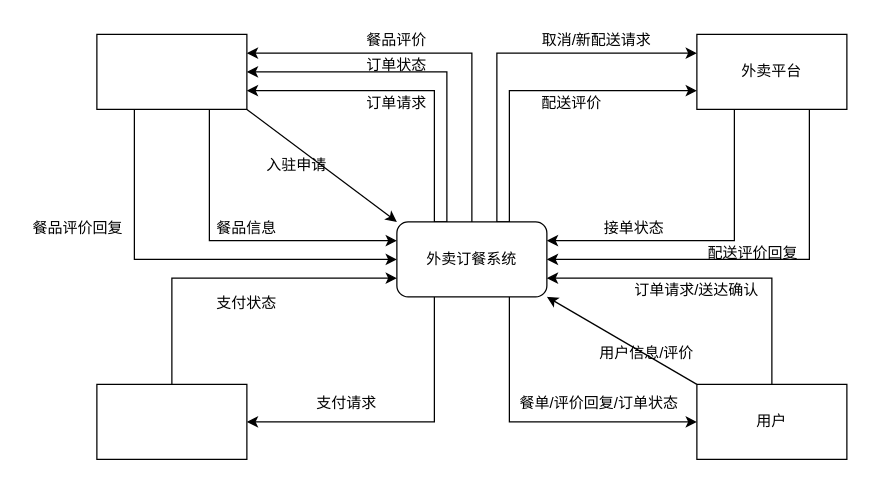
Image size: 869x481. Some labels were removed from this diagram. Here are the shapes that lost their labels. From the top down, the centre of each, then its label:
At pixel 171 71: "商户".
At pixel 171 421: "支付系统".
